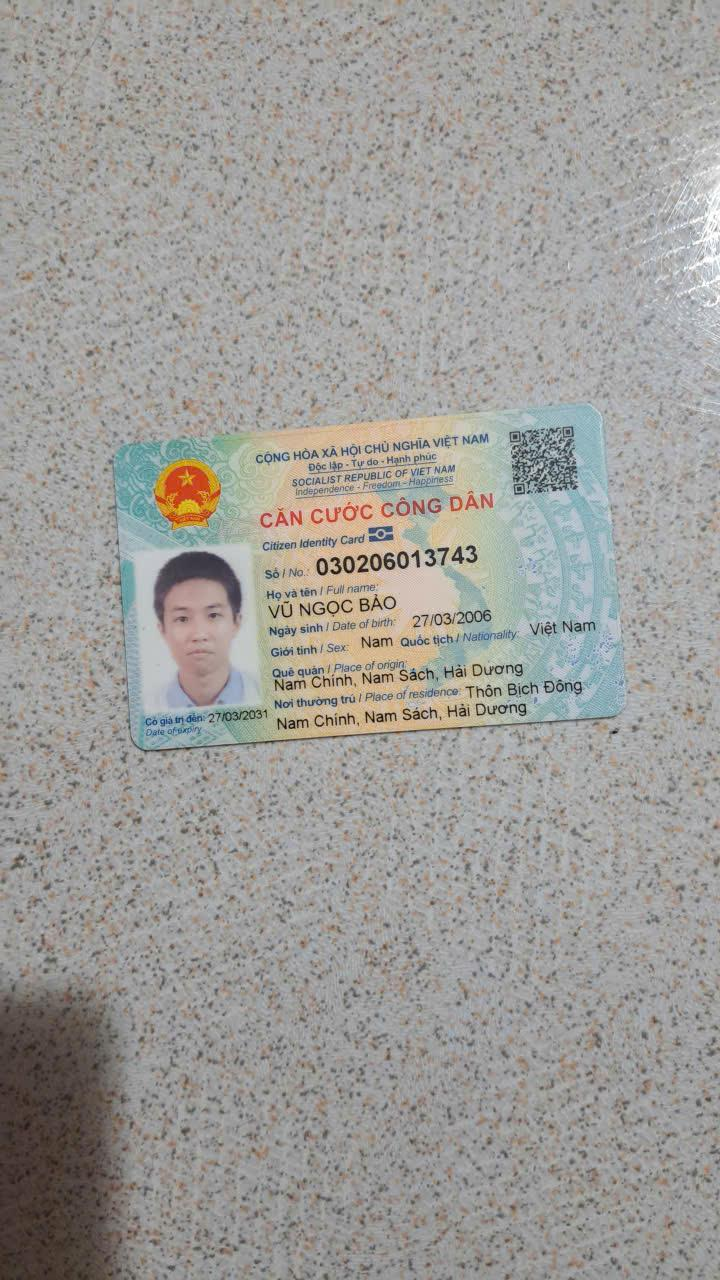cccd: (85, 385, 644, 761)
